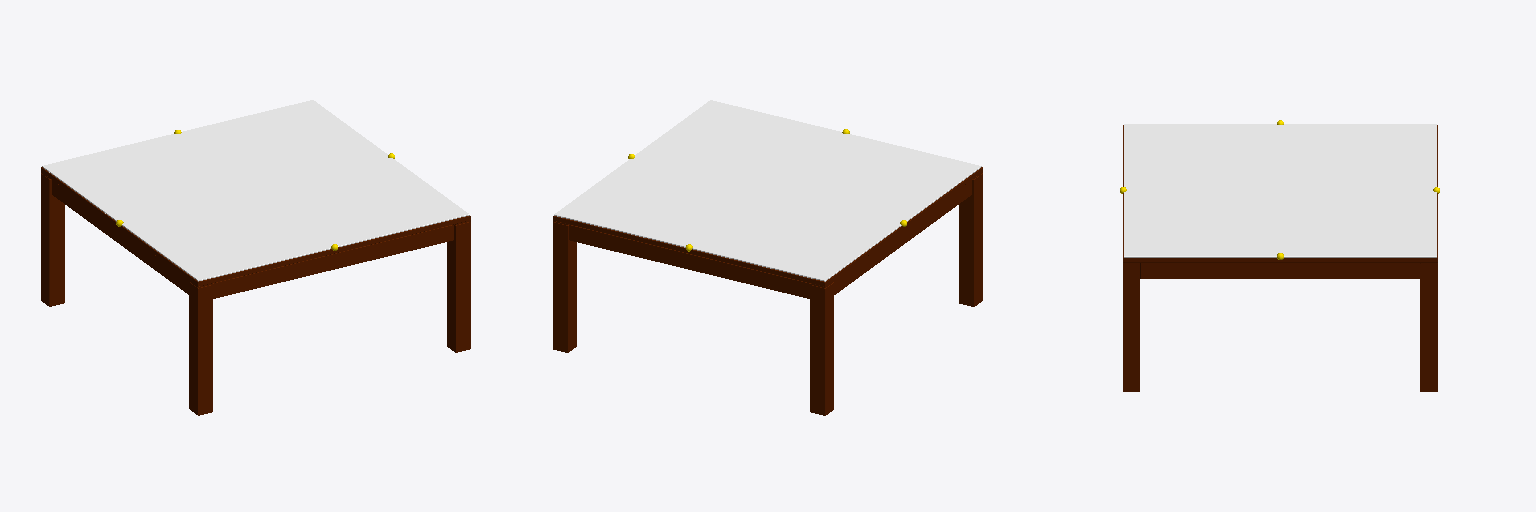
Rendered from attach-demo-table.obj.
3 views of the same model, side by side, from view 1: azimuth 30°, elevation 25°; view 2: azimuth 150°, elevation 25°; view 3: azimuth 270°, elevation 25° (orthographic).
Visible parts, largest first — view 1: 3DSMesh_8_6, 3DSMesh_6_6; view 2: 3DSMesh_8_6, 3DSMesh_6_6; view 3: 3DSMesh_8_6, 3DSMesh_6_6.
Boxes of the visible parts, box(x1,y1,x2,y2) form: 3DSMesh_8_6: box(42, 100, 469, 281); 3DSMesh_6_6: box(41, 167, 470, 415); 3DSMesh_8_6: box(554, 100, 981, 281); 3DSMesh_6_6: box(553, 167, 982, 415); 3DSMesh_8_6: box(1124, 124, 1436, 257); 3DSMesh_6_6: box(1123, 125, 1437, 391).
Bounding box in the file's own units: 4.29 × 2.04 × 4.28.